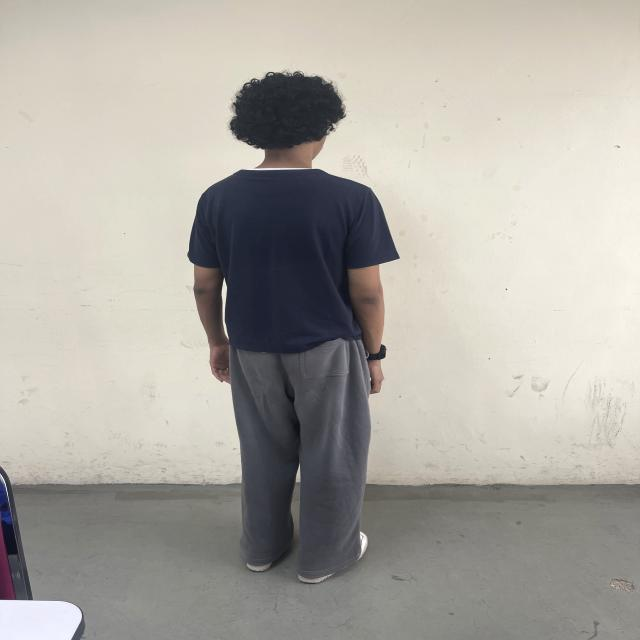person_without_labcoat: (188, 73, 399, 583)
